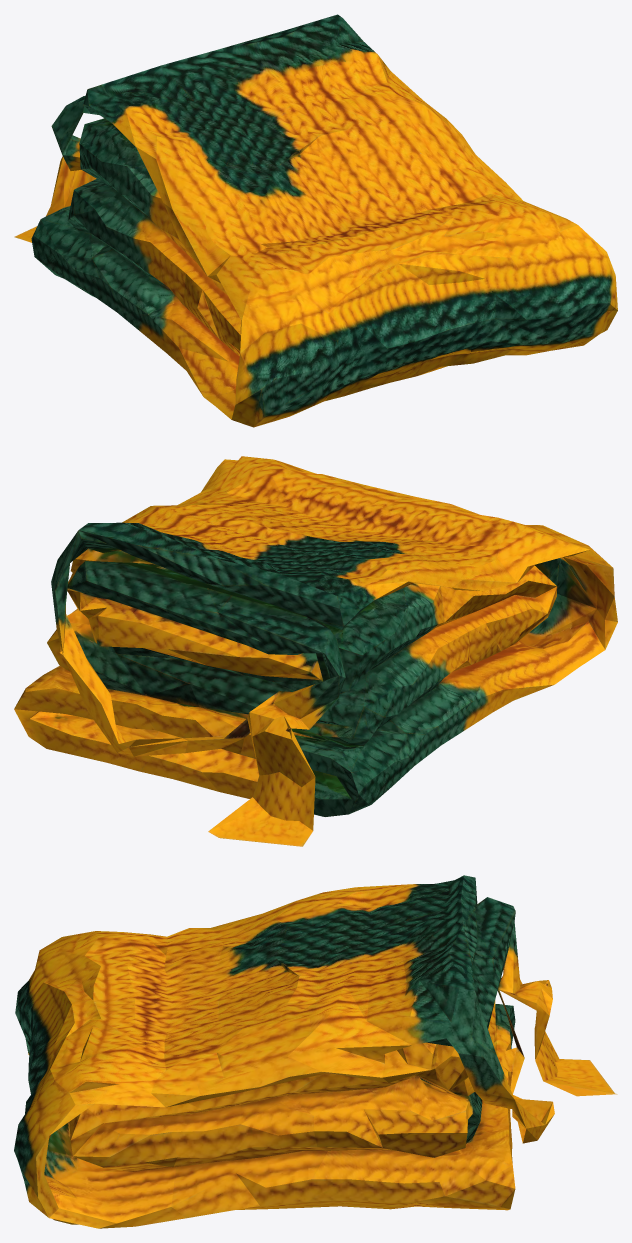
File: blanket.glb
3 renders of one model, top to bottom at view 1: azimuth 30°, elevation 25°; view 2: azimuth 150°, elevation 25°; view 3: azimuth 270°, elevation 25°, orthographic. The views are drawn at different scales.
Bounding box in the file's own units: 1.45 × 0.7772 × 1.9.
Materials: 1 (1 with a texture image).
